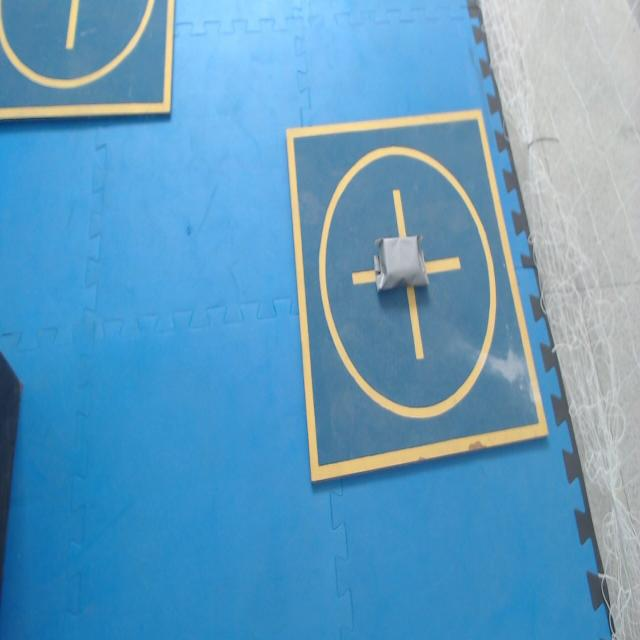horizontal: (374, 236, 428, 292)
